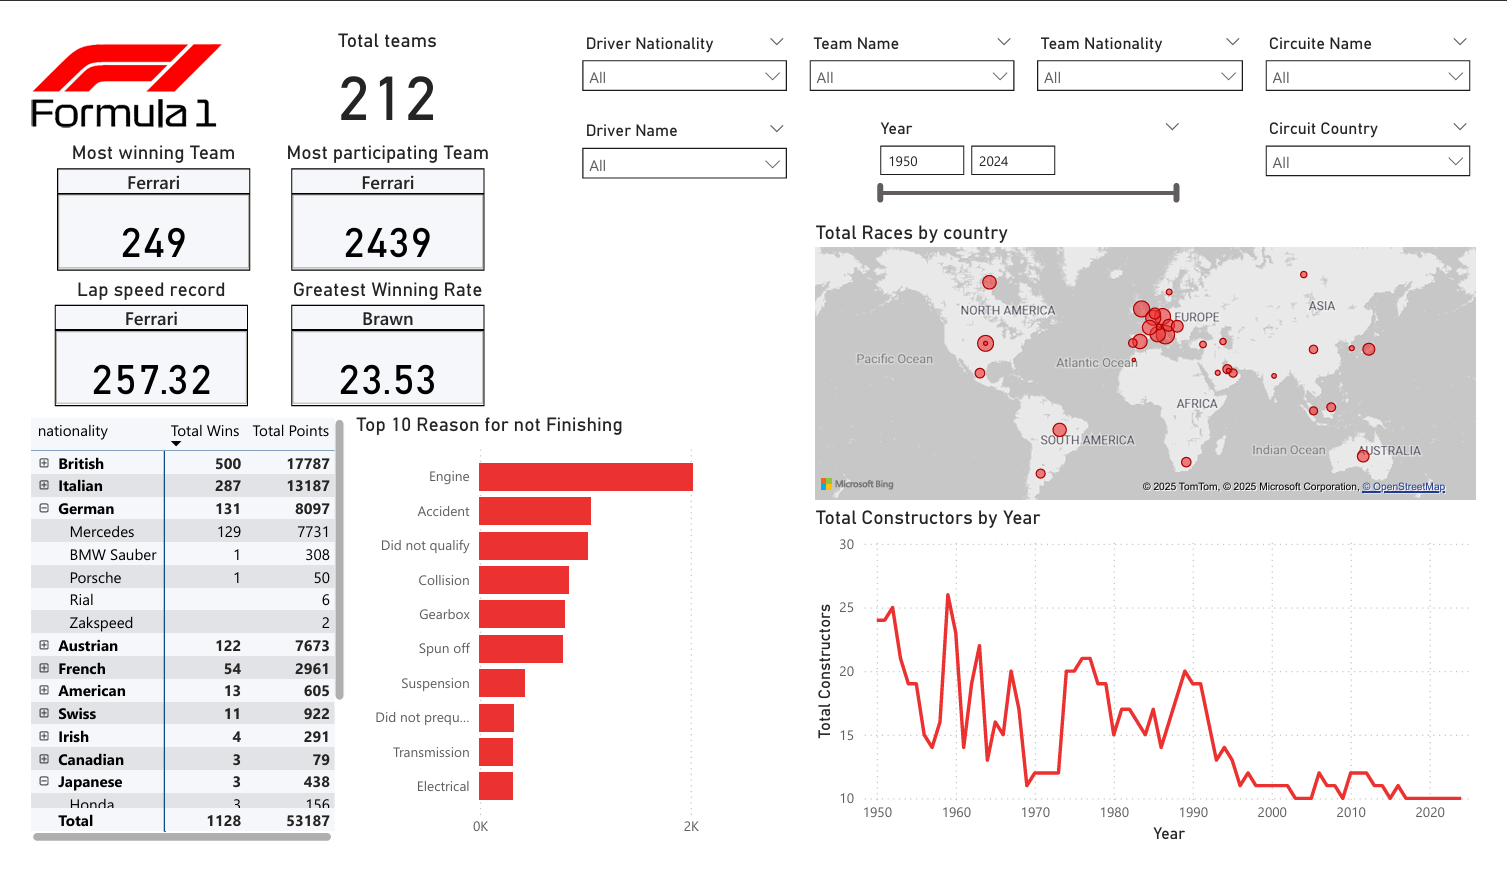

This screenshot's page, from the dashboard's own definition file:
{"tool":"powerbi","page":{"name":"Teams/Brands","canvas":[1280,720],"ordinal":1},"visuals":[{"type":"card","title":"Total teams","fields":{"Values":["Dim_Circuits.Total Constructors"]},"box":[247.1,0,141,90.5],"z":0},{"type":"cardVisual","title":"Most winning Team","fields":{"Rows":["Dim_Constructors.name"],"Data":["Fact_Results.Total Wins"]},"box":[1.9,99.2,219.8,119.6],"z":1000},{"type":"cardVisual","title":"Most participating Team","fields":{"Rows":["Dim_Constructors.name"],"Data":["Dim_Constructors.Total Constructors Races"]},"box":[208.1,99.2,219.8,119.6],"z":2000},{"type":"cardVisual","title":"Lap speed record","fields":{"Data":["Fact_Results.fastestLapSpeed"],"Rows":["Dim_Constructors.name"]},"box":[0,218.8,219.8,119.6],"z":3000},{"type":"cardVisual","title":"Greatest Winning Rate","fields":{"Rows":["Dim_Constructors.name"],"Data":["Dim_Constructors.Constructors Winning rate"]},"box":[208.1,218.8,219.8,119.6],"z":4000},{"type":"slicer","fields":{"Values":["Dim_Races.Date_Time.Variation.Date Hierarchy.Year"]},"box":[738.2,74.9,288.9,84.6],"z":5000},{"type":"barChart","title":"Top 10 Reason for not Finishing","fields":{"Category":["Dim_Status.status"],"Y":["Dim_Constructors.Total Constructors Races"]},"box":[285,338.5,403.6,381.3],"z":7000},{"type":"lineChart","fields":{"Y":["Dim_Constructors.Total Constructors"],"Category":["Dim_Races.date.Variation.Date Hierarchy.Year"]},"box":[688.6,420.2,591.4,299.6],"z":8000},{"type":"slicer","fields":{"Values":["Dim_Drivers.Full name"]},"box":[478.5,76.8,200.4,70],"z":10000},{"type":"slicer","fields":{"Values":["Dim_Drivers.Nationality"]},"box":[478.5,0,200.4,70],"z":11000},{"type":"slicer","fields":{"Values":["Dim_Constructors.name"]},"box":[678.9,0,200.4,70],"z":12000},{"type":"slicer","fields":{"Values":["Dim_Races.name"]},"box":[1079.6,0,200.4,70],"z":13000},{"type":"slicer","fields":{"Values":["Dim_Constructors.nationality"]},"box":[879.3,0,200.4,70],"z":14000},{"type":"slicer","fields":{"Values":["Dim_Circuits.country"]},"box":[1079.6,74.9,200.4,70],"z":15000},{"type":"map","fields":{"Category":["Dim_Circuits.country"],"Size":["Dim_Races.Total Races"]},"box":[688.6,169.2,591.4,250.9],"z":16000},{"type":"pivotTable","fields":{"Rows":["Dim_Constructors.nationality","Dim_Constructors.name"],"Values":["Fact_Results.Total Wins","Fact_Results.Total Points"]},"box":[0,338.5,285,381.3],"z":17000},{"type":"image","box":[0,0,177,100.2],"z":18000}]}

Visuals, with their boxes in screenshot pixels (x1, y1, x2, y2), scaled from the page's 1280x720 canvas onto the 1507x873 screenshot:
"Total teams" card: [291,0,457,110]
"Most winning Team" cardVisual: [2,120,261,265]
"Most participating Team" cardVisual: [245,120,504,265]
"Lap speed record" cardVisual: [0,265,259,410]
"Greatest Winning Rate" cardVisual: [245,265,504,410]
slicer - Dim_Races.Date_Time.Variation.Date Hierarchy.Year: [869,91,1209,193]
"Top 10 Reason for not Finishing" barChart: [336,410,811,872]
lineChart - Dim_Constructors.Total Constructors x Dim_Races.date.Variation.Date Hierarchy.Year: [811,509,1506,872]
slicer - Dim_Drivers.Full name: [563,93,799,178]
slicer - Dim_Drivers.Nationality: [563,0,799,85]
slicer - Dim_Constructors.name: [799,0,1035,85]
slicer - Dim_Races.name: [1271,0,1506,85]
slicer - Dim_Constructors.nationality: [1035,0,1271,85]
slicer - Dim_Circuits.country: [1271,91,1506,176]
map - Dim_Circuits.country x Dim_Races.Total Races: [811,205,1506,509]
pivotTable - Dim_Constructors.nationality x Dim_Constructors.name: [0,410,336,872]
image: [0,0,208,121]
